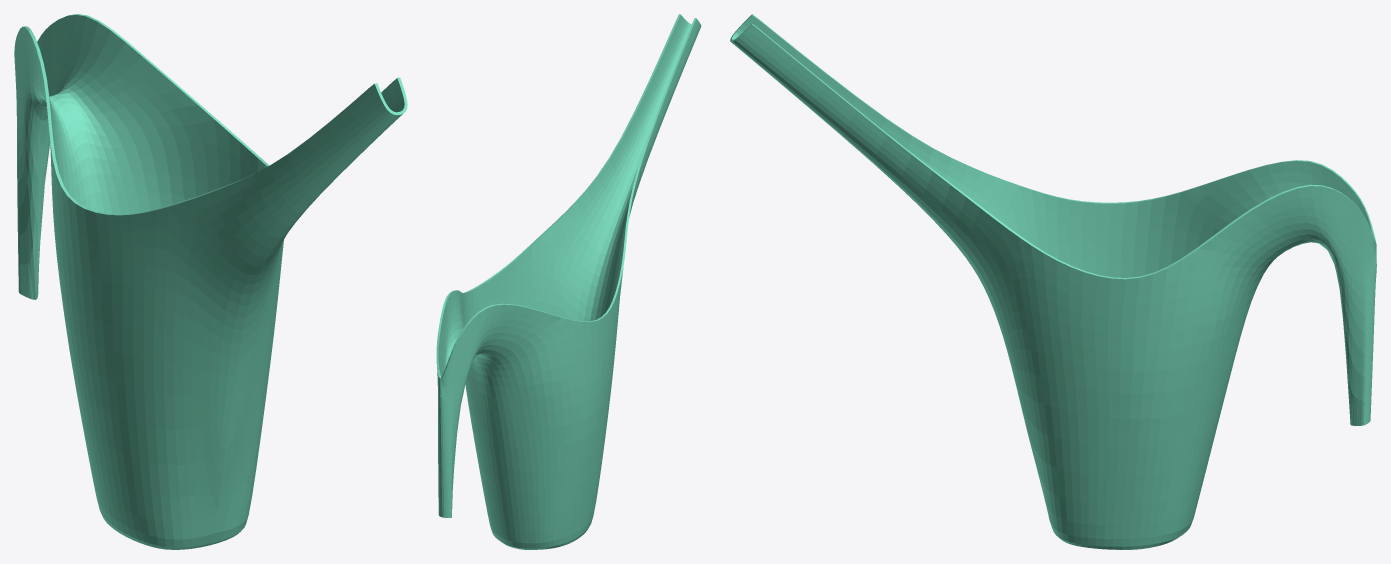
The model's file is ikeagieter.fbx.
The picture shows the model from 3 angles, left to right: view 1: azimuth 30°, elevation 25°; view 2: azimuth 150°, elevation 25°; view 3: azimuth 270°, elevation 25°; orthographic projection. The views are drawn at different scales.
Visible parts, largest first — view 1: ikeagieter; view 2: ikeagieter; view 3: ikeagieter.
Part boxes in pixels (box(x1,y1,x2,y2)): ikeagieter: box(14, 14, 407, 549); ikeagieter: box(436, 14, 701, 549); ikeagieter: box(730, 14, 1376, 549).
Size of the model in its own units: 101 by 309 by 356.
